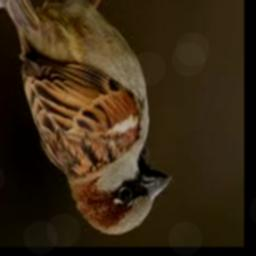Sparrow: (0, 0, 173, 236)
